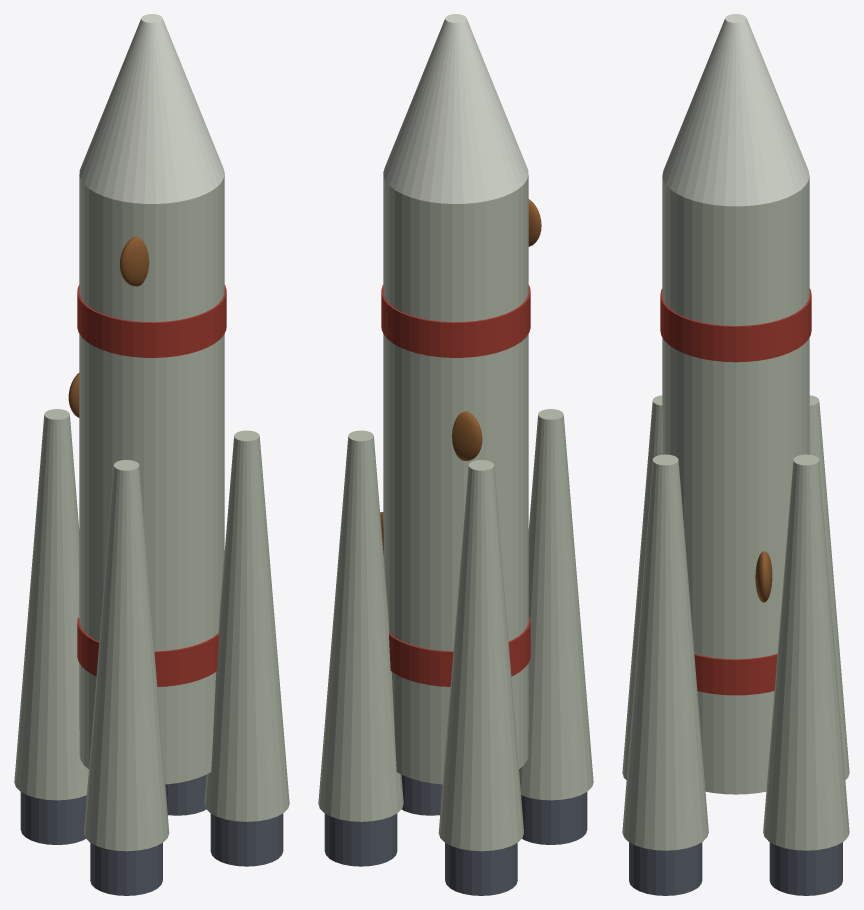
File: cohete_viejo.glb
The picture shows the model from 3 angles, left to right: view 1: azimuth 30°, elevation 25°; view 2: azimuth 150°, elevation 25°; view 3: azimuth 270°, elevation 25°; orthographic projection.
Parts seen in each view (by area): view 1: Cylinder, Cone.003, Cone.004, Cone.002, Cone, Cylinder.002, Cylinder.006, Cylinder.005, Cylinder.001, Cylinder.004, Cylinder.003, Sphere.002; view 2: Cylinder, Cone.002, Cone.001, Cone.003, Cone, Cylinder.002, Cylinder.003, Cylinder.004, Cylinder.001, Cylinder.005, Cylinder.006, Sphere.001; view 3: Cylinder, Cone.001, Cone.004, Cone, Cylinder.002, Cylinder.003, Cylinder.006, Cylinder.001, Cone.002, Cone.003, Sphere.
Boxes of the visible parts, x1,y1,x2,y2 form: Cylinder: (79, 173, 224, 784); Cone.003: (84, 460, 169, 851); Cone.004: (204, 430, 289, 821); Cone.002: (14, 409, 88, 800); Cone: (79, 14, 224, 203); Cylinder.002: (77, 285, 226, 357); Cylinder.006: (210, 813, 283, 866); Cylinder.005: (90, 842, 162, 895); Cylinder.001: (77, 618, 218, 686); Cylinder.004: (20, 792, 86, 844); Cylinder.003: (165, 774, 206, 815); Sphere.002: (119, 236, 149, 286); Cylinder: (383, 173, 528, 784); Cone.002: (438, 460, 523, 851); Cone.001: (318, 430, 403, 821); Cone.003: (519, 409, 593, 800); Cone: (383, 14, 528, 203); Cylinder.002: (381, 285, 530, 357); Cylinder.003: (324, 813, 397, 866); Cylinder.004: (445, 842, 517, 895); Cylinder.001: (389, 618, 530, 686); Cylinder.005: (521, 792, 587, 844); Cylinder.006: (401, 774, 442, 815); Sphere.001: (452, 411, 482, 461); Cylinder: (662, 176, 809, 794); Cone.001: (763, 454, 849, 850); Cone.004: (622, 454, 708, 850); Cone: (662, 14, 809, 206); Cylinder.002: (660, 288, 811, 362); Cylinder.003: (769, 842, 842, 895); Cylinder.006: (629, 842, 702, 895); Cylinder.001: (694, 654, 777, 695); Cone.002: (809, 395, 849, 779); Cone.003: (622, 395, 662, 779); Sphere: (755, 551, 772, 602).
Bounding box in the file's own units: 1.05 × 4.25 × 1.05.
